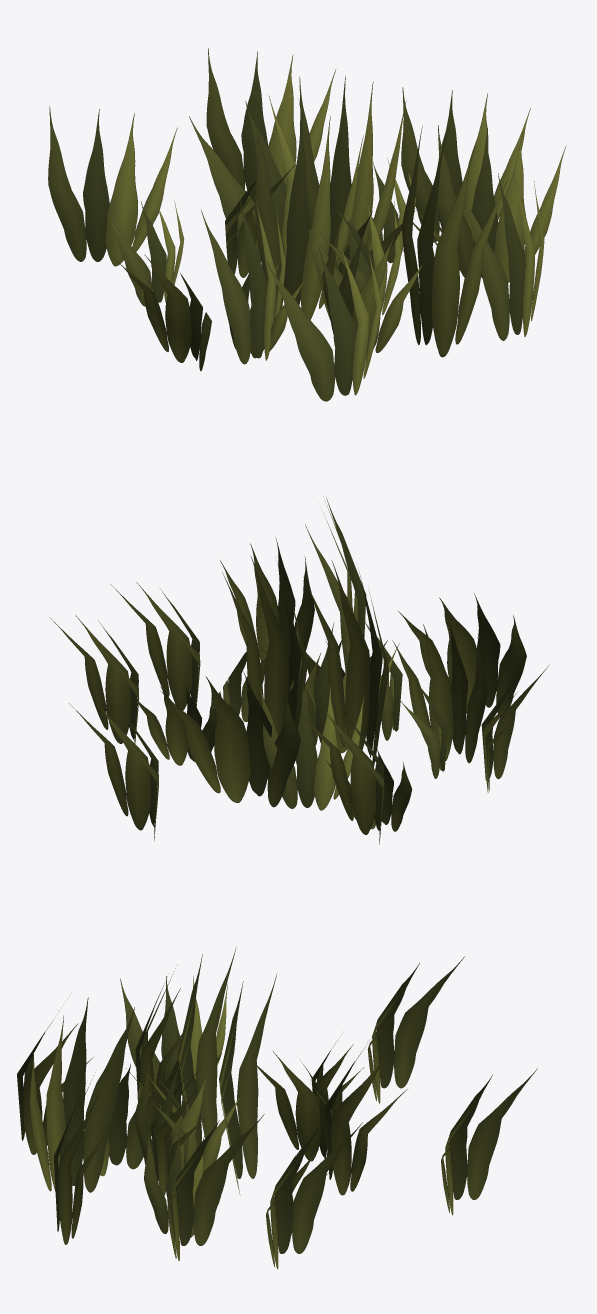
The model's file is grassPatch.fbx.
3 views of the same model, one above another, from view 1: azimuth 30°, elevation 25°; view 2: azimuth 150°, elevation 25°; view 3: azimuth 270°, elevation 25° (orthographic). The views are drawn at different scales.
Visible parts, largest first — view 1: pPlane16, pPlane22, pPlane17, pPlane11, pPlane18, pPlane21, pPlane14, pPlane19, pPlane10, pPlane20, pPlane13, pPlane15 (+8 smaller); view 2: pPlane13, pPlane17, pPlane19, pPlane18, pPlane11, pPlane8, pPlane22, pPlane21, pPlane14, pPlane10, pPlane20, pPlane9 (+7 smaller); view 3: pPlane16, pPlane18, pPlane20, pPlane21, pPlane14, pPlane22, pPlane17, pPlane13, pPlane4, pPlane8, pPlane10, pPlane15 (+8 smaller).
Boxes of the visible parts, <box> form: pPlane16: <box>401,125,508,357</box>; pPlane22: <box>48,106,177,266</box>; pPlane17: <box>255,110,363,319</box>; pPlane11: <box>267,242,381,401</box>; pPlane18: <box>299,76,406,268</box>; pPlane21: <box>206,48,335,203</box>; pPlane14: <box>436,125,566,282</box>; pPlane19: <box>201,195,285,364</box>; pPlane10: <box>459,172,544,340</box>; pPlane20: <box>401,87,530,244</box>; pPlane13: <box>189,96,314,261</box>; pPlane15: <box>115,254,211,371</box>; pPlane13: <box>161,671,300,807</box>; pPlane17: <box>303,560,388,766</box>; pPlane19: <box>392,620,487,763</box>; pPlane18: <box>222,556,307,735</box>; pPlane11: <box>398,593,526,714</box>; pPlane8: <box>259,682,365,810</box>; pPlane22: <box>294,706,384,844</box>; pPlane21: <box>69,701,158,840</box>; pPlane14: <box>110,582,200,710</box>; pPlane10: <box>220,537,314,662</box>; pPlane20: <box>49,615,139,743</box>; pPlane9: <box>132,684,216,765</box>; pPlane16: <box>29,997,134,1192</box>; pPlane18: <box>219,973,277,1195</box>; pPlane20: <box>266,1122,362,1269</box>; pPlane21: <box>441,1068,537,1215</box>; pPlane14: <box>167,1114,264,1260</box>; pPlane22: <box>367,956,464,1103</box>; pPlane17: <box>178,947,236,1147</box>; pPlane13: <box>324,1046,407,1195</box>; pPlane4: <box>134,1052,244,1181</box>; pPlane8: <box>257,1051,332,1161</box>; pPlane10: <box>53,1072,110,1244</box>; pPlane15: <box>120,976,227,1097</box>.
Bounding box in the file's own units: 183 × 89.22 × 180.
Materials: 1 (1 with a texture image).
